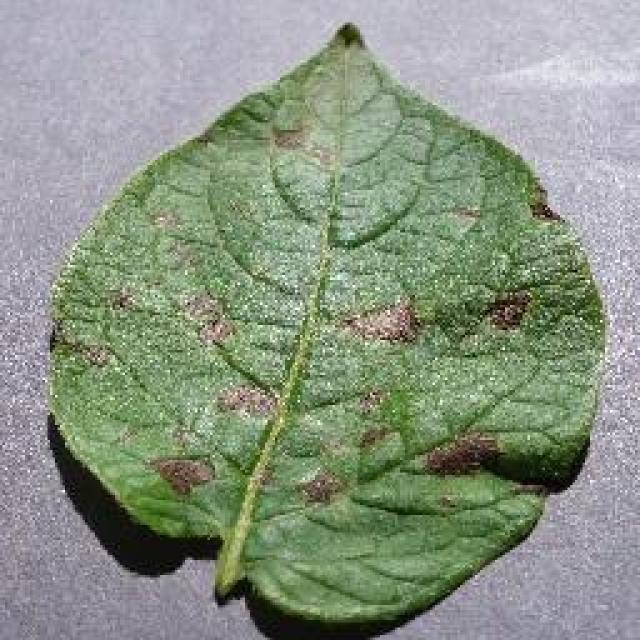Potato: (45, 20, 607, 638)
